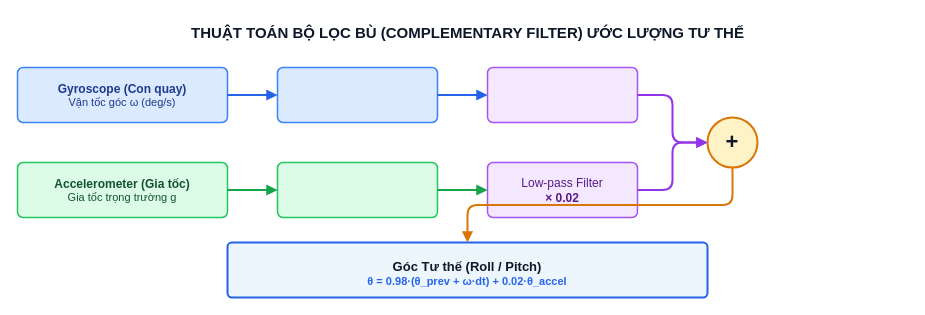
The diagram is 925 pixels wide and 315 high, and some of its shapes have lost their labels. Each missing label, with the centre of its shape:
"atan2(ax, az)" belongs at point 357,189.
"High-pass Filter × 0.98" belongs at point 562,94.
"Tích phân: ∫ω dt" belongs at point 357,94.
